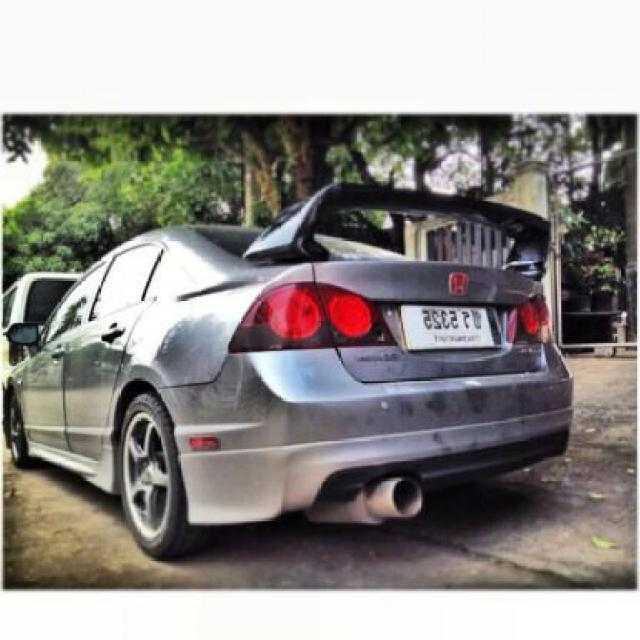License-Plates: (402, 294, 500, 359)
